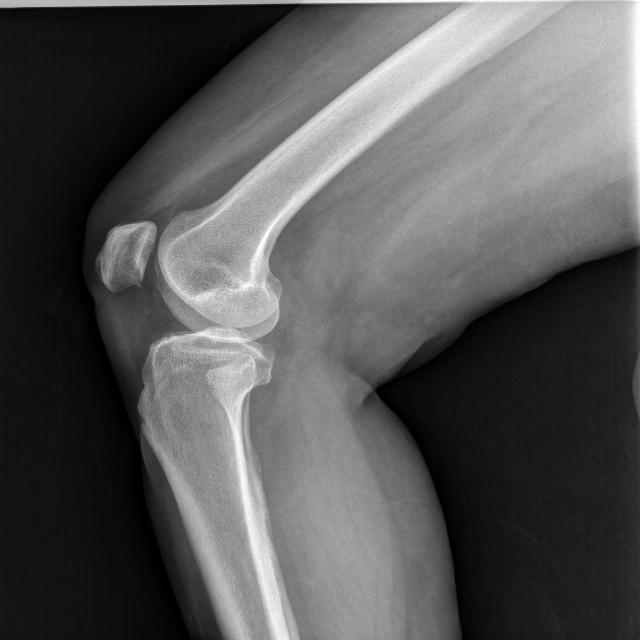Knee: (93, 215, 284, 415)
